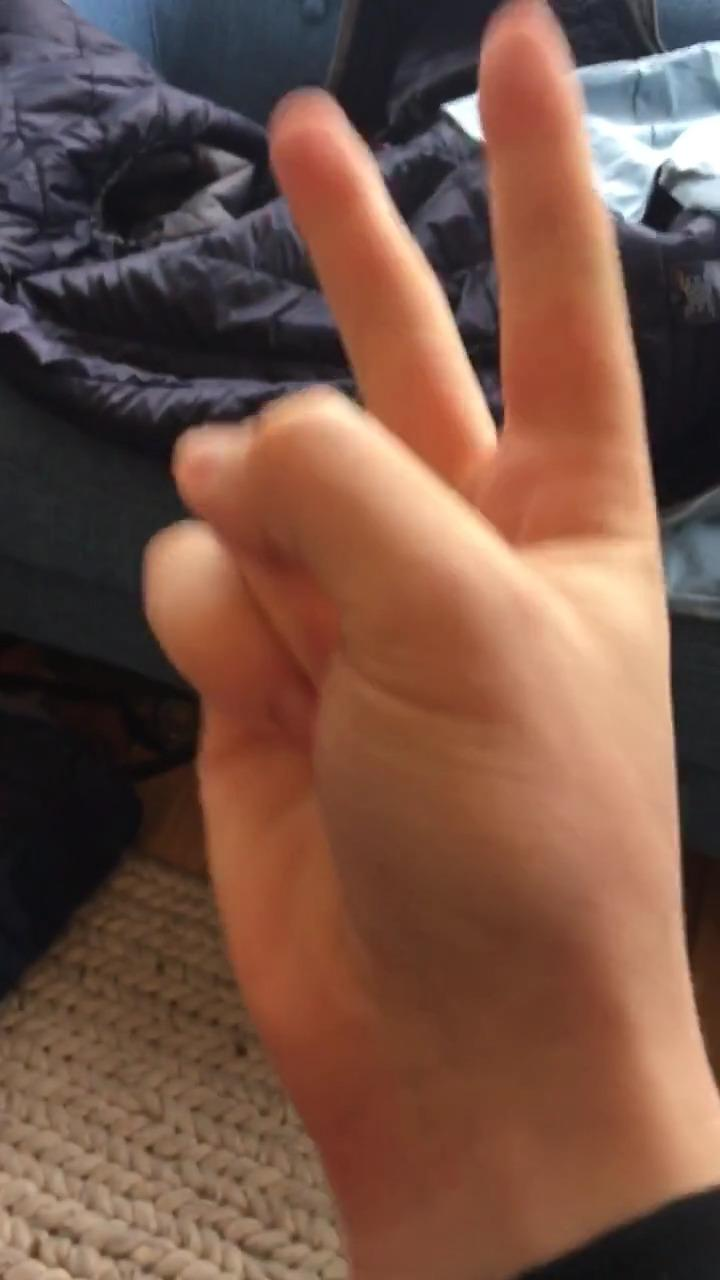Scissors: (142, 0, 706, 1109)
